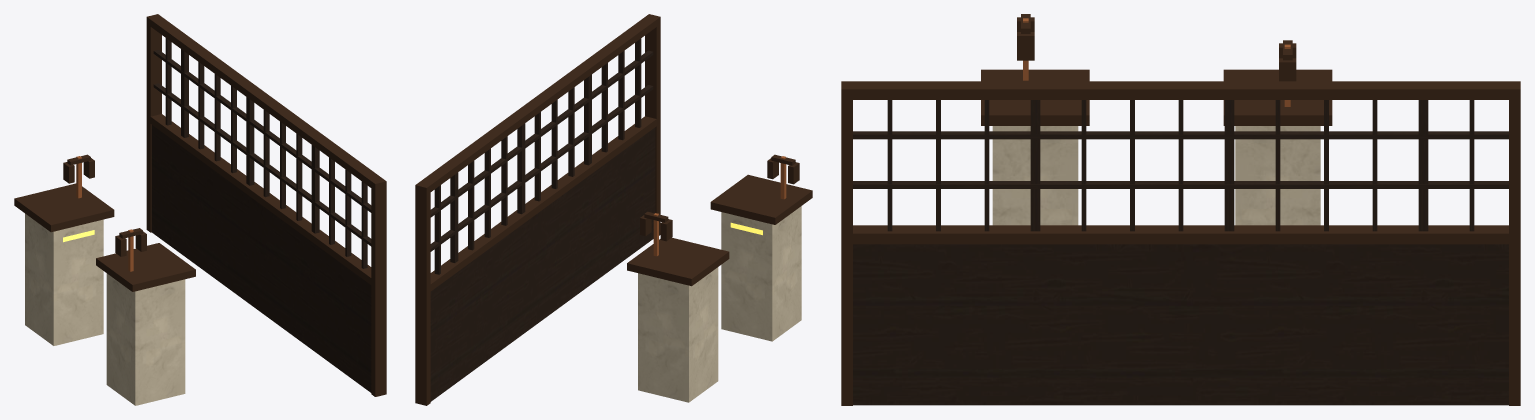
File: roleplay_booth.glb
3 renders of one model, left to right at view 1: azimuth 30°, elevation 25°; view 2: azimuth 150°, elevation 25°; view 3: azimuth 270°, elevation 25°, orthographic. The views are drawn at different scales.
Parts seen in each view (by area): view 1: roleplay_booth; view 2: roleplay_booth; view 3: roleplay_booth.
Boxes of the visible parts, x1=… form: roleplay_booth: x1=14, y1=14, x2=386, y2=405; roleplay_booth: x1=415, y1=14, x2=812, y2=405; roleplay_booth: x1=841, y1=14, x2=1520, y2=405.
Size of the model in its own units: 1.83 by 1.8 by 3.5.
5 materials, 2 textured.
